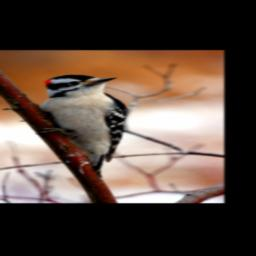Woodpecker: (34, 74, 128, 178)
